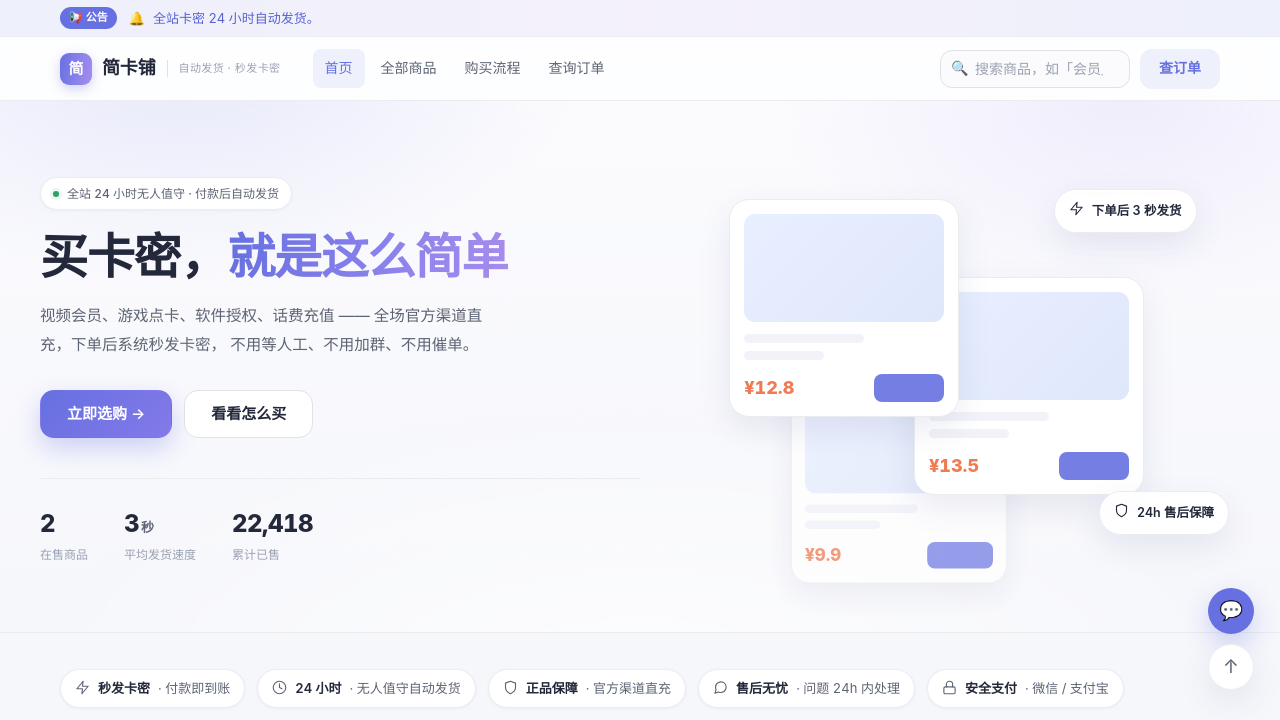
Test: 首页区块与页脚 › 客服配置成 QQ / 微信号时不当链接，改为弹窗里可复制的账号
The image size is (1280, 720).
Click the button "💬": (1231, 611) [1208,588,1254,634]
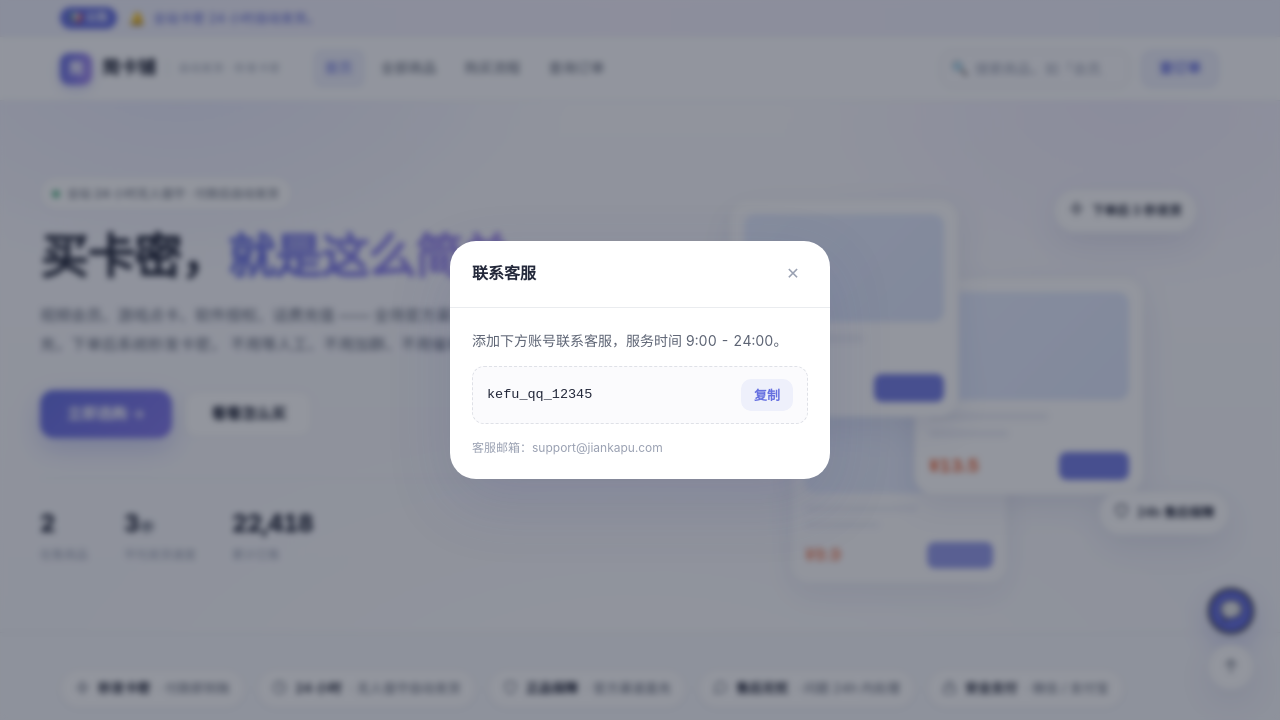
Now the text "kefu_qq_12345" is shown, box [487,387,592,402]
Now the button "复制" is shown, box [741,379,793,411]
